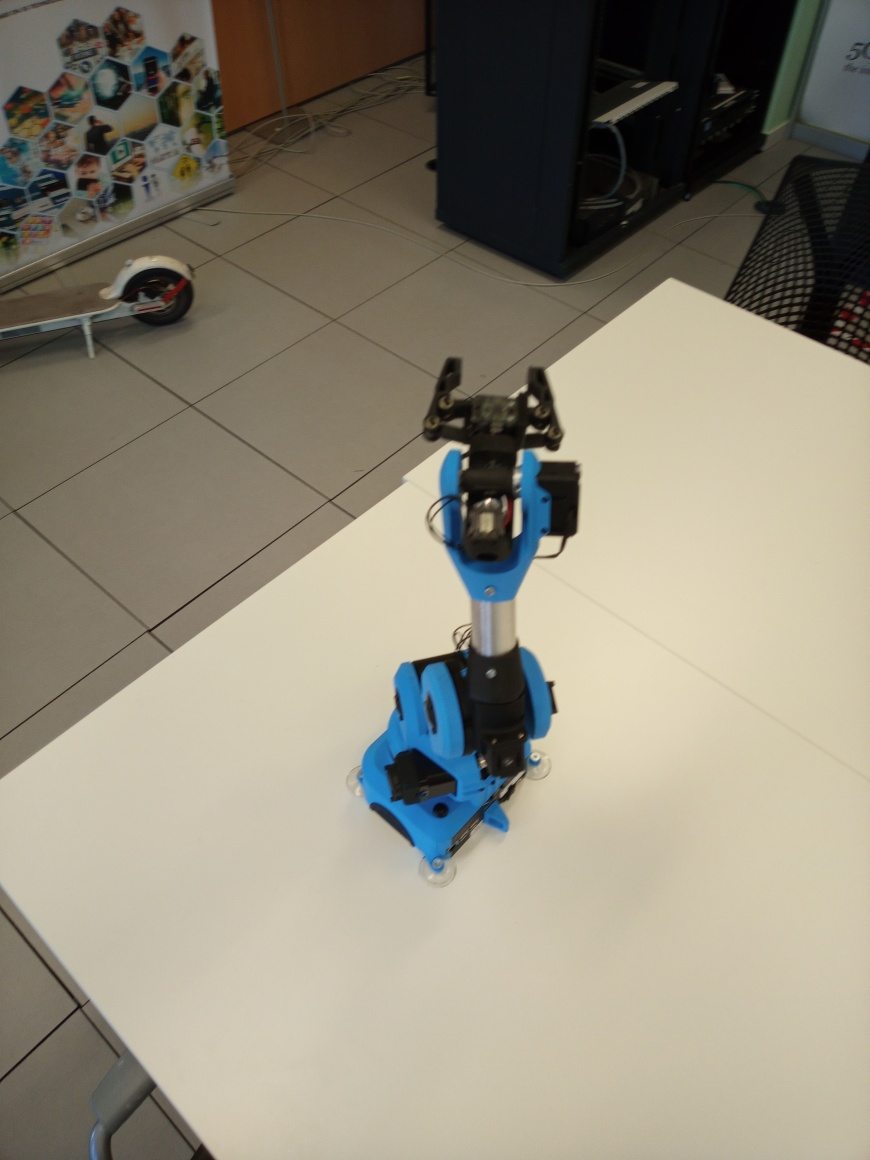robot: (343, 355, 592, 888)
